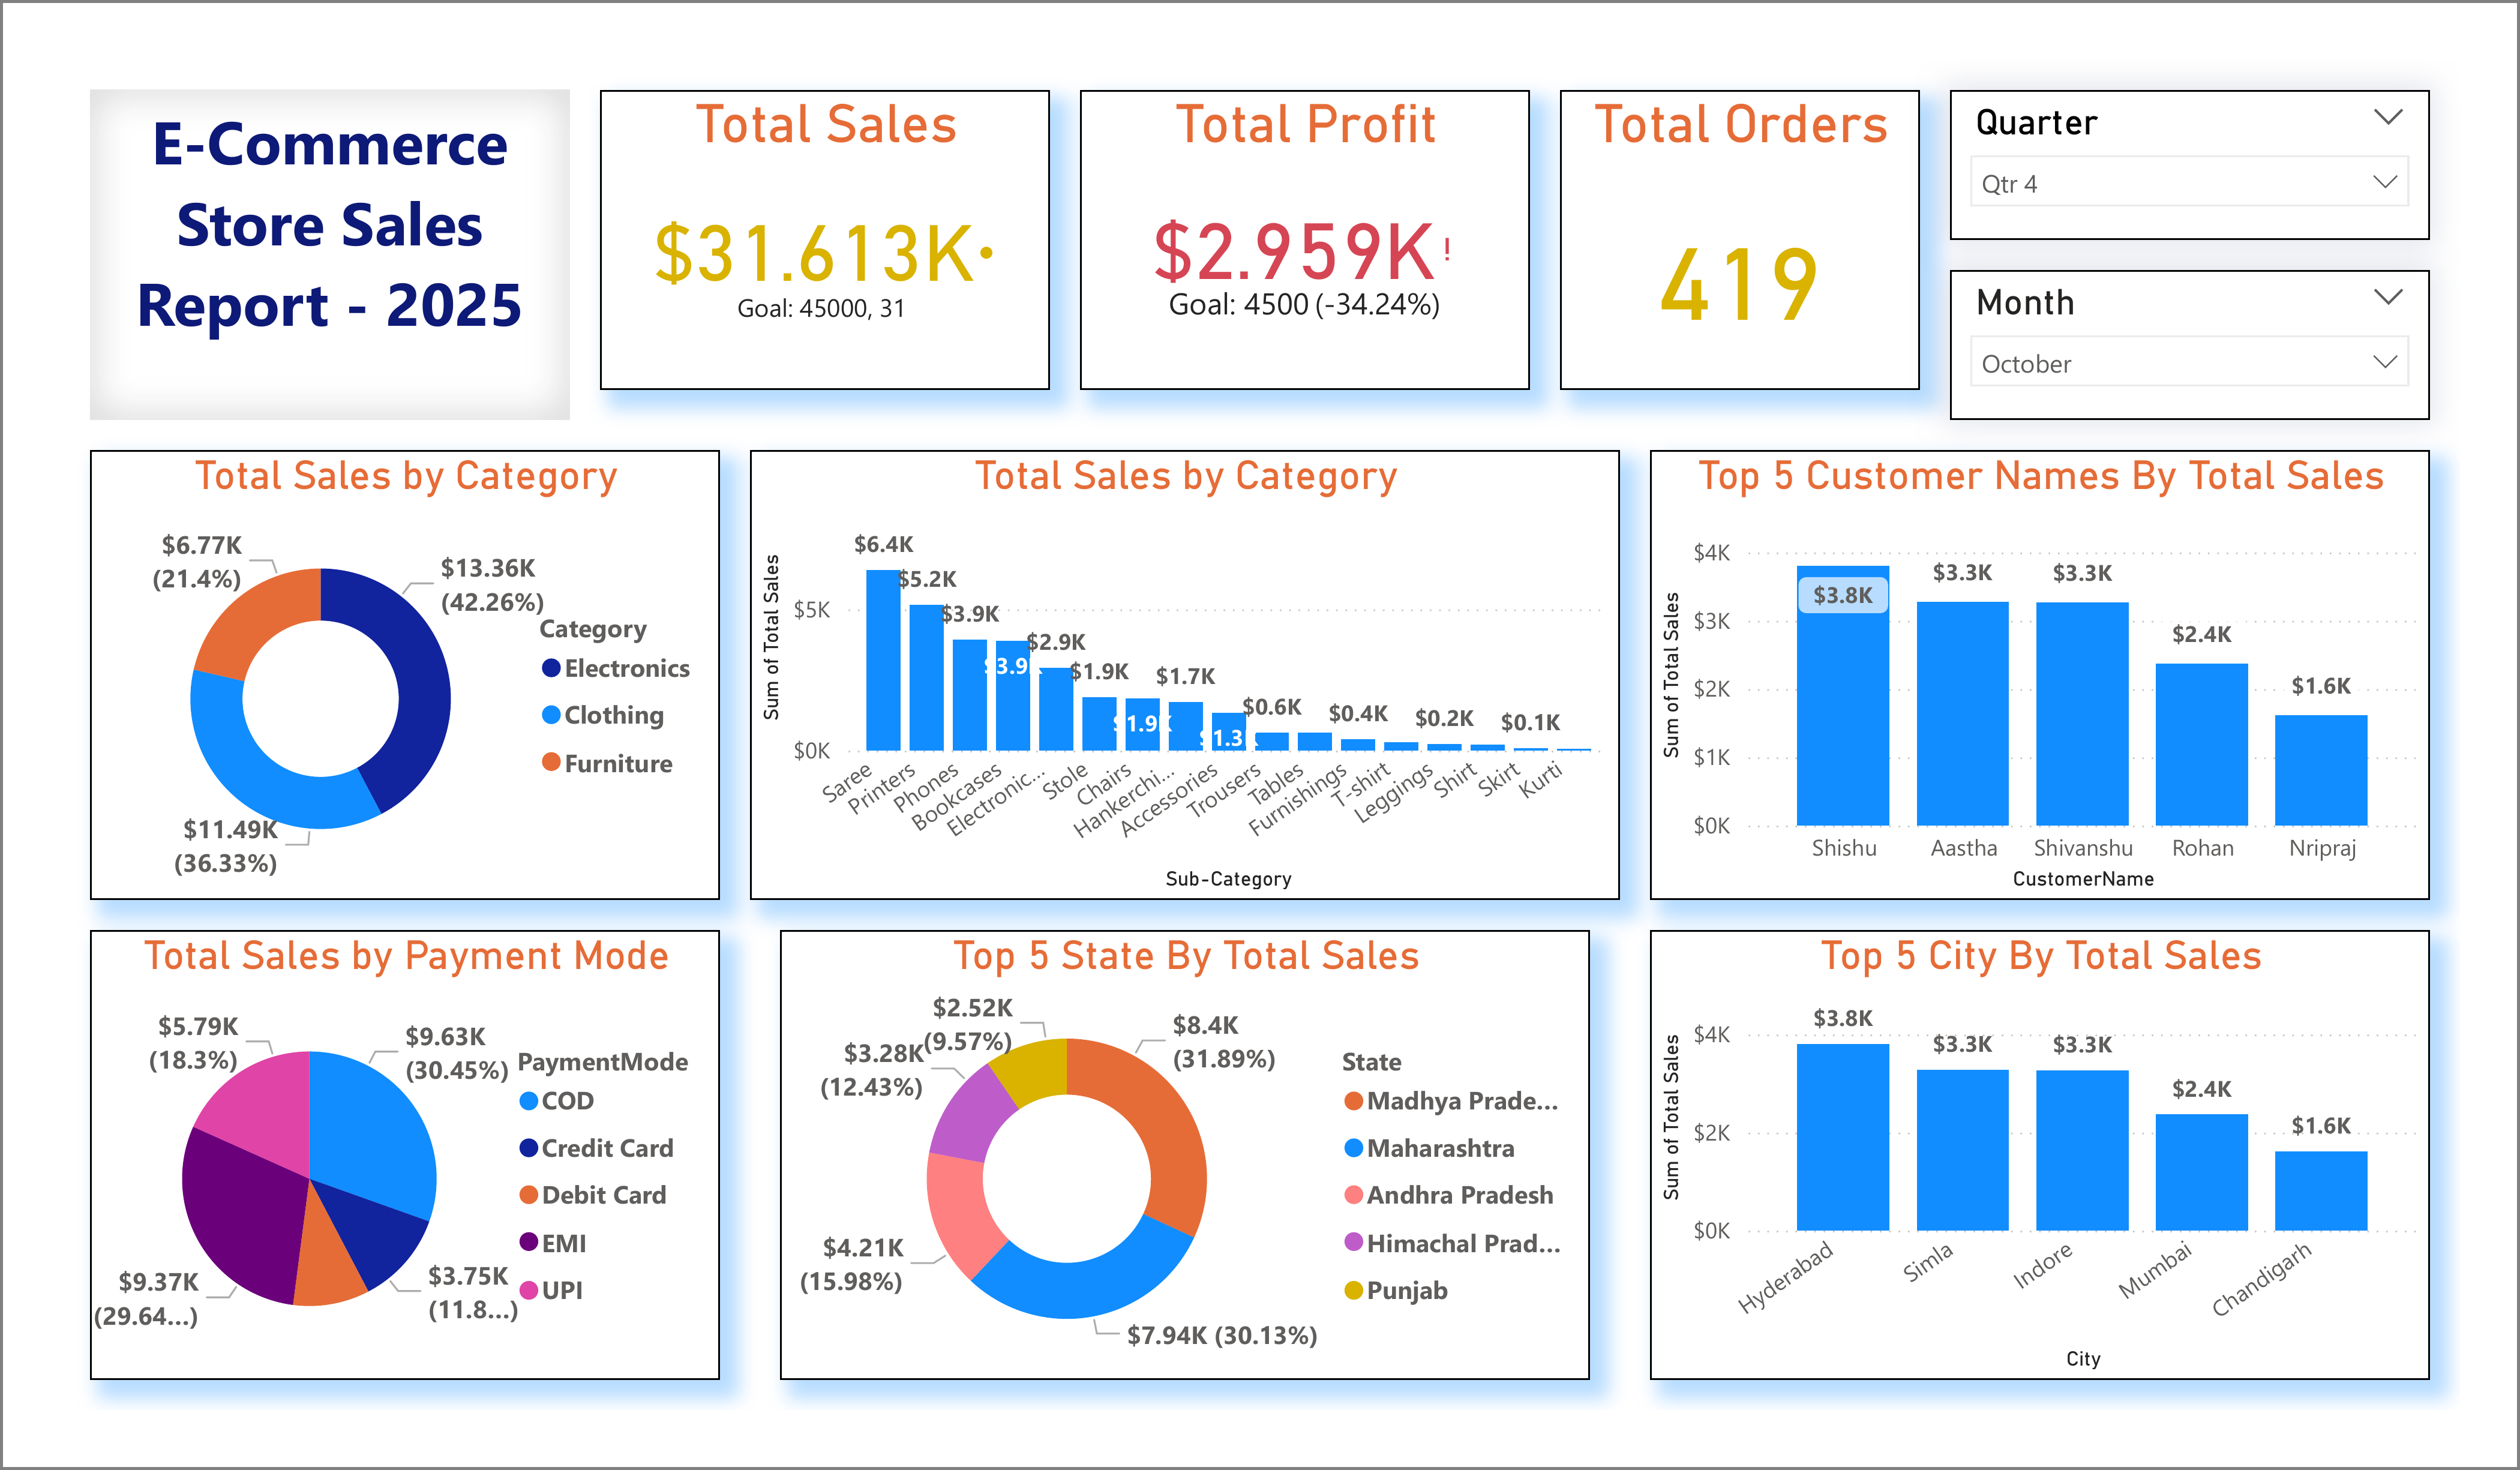

The page's visual inventory and layout, read from the dashboard file:
{"tool":"powerbi","page":{"name":"Page 1","canvas":[1280,720],"ordinal":0},"visuals":[{"type":"textbox","box":[16,16,256,176],"z":1000},{"type":"kpi","title":"Total Sales","fields":{"Indicator":["Sum(data.Total Sales)"],"TrendLine":["data (2).Order Date.Variation.Date Hierarchy.Year"],"Goal":["data.Target","CountNonNull(data (2).Order Date.Variation.Date Hierarchy.Year)"]},"box":[288,16,240,160],"z":2000},{"type":"card","title":"Total Orders","fields":{"Values":["Sum(data.Quantity)"]},"box":[800,16,192,160],"z":3000},{"type":"kpi","title":"Total Profit","fields":{"Indicator":["Sum(data.Profit)"],"Goal":["data.Estimated Profit"],"TrendLine":["data (2).Order Date.Variation.Date Hierarchy.Year"]},"box":[544,16,240,160],"z":4000},{"type":"slicer","fields":{"Values":["data (2).Order Date.Variation.Date Hierarchy.Month"]},"box":[1008,112,256,80],"z":5000},{"type":"slicer","fields":{"Values":["data (2).Order Date.Variation.Date Hierarchy.Quarter"]},"box":[1008,16,256,80],"z":6000},{"type":"donutChart","title":"Total Sales by Category","fields":{"Y":["Sum(data.Total Sales)"],"Category":["data.Category"]},"box":[16,208,336,240],"z":7000},{"type":"pieChart","title":"Total Sales by Payment Mode","fields":{"Y":["Sum(data.Total Sales)"],"Series":["data.PaymentMode"]},"box":[16,464,336,240],"z":8000},{"type":"columnChart","title":"Total Sales by Category","fields":{"Category":["data.Sub-Category"],"Y":["Sum(data.Total Sales)"]},"box":[368,208,464,240],"z":9000},{"type":"donutChart","title":"Top 5 State By Total Sales","fields":{"Y":["Sum(data.Total Sales)"],"Category":["data (2).State"]},"box":[384,464,432,240],"z":10000},{"type":"lineClusteredColumnComboChart","title":"Top 5 Customer Names By Total Sales","fields":{"Category":["data (2).CustomerName"],"Y":["Sum(data.Total Sales)"]},"box":[848,208,416,240],"z":11000},{"type":"columnChart","title":"Top 5 City By Total Sales","fields":{"Category":["data (2).City"],"Y":["Sum(data.Total Sales)"]},"box":[848,464,416,240],"z":12000}]}

Visuals, with their boxes in screenshot pixels (x1, y1, x2, y2):
textbox: select_region(82, 82, 562, 412)
"Total Sales" kpi: select_region(592, 82, 1041, 382)
"Total Orders" card: select_region(1550, 82, 1910, 382)
"Total Profit" kpi: select_region(1071, 82, 1520, 382)
slicer - data (2).Order Date.Variation.Date Hierarchy.Month: select_region(1940, 262, 2420, 412)
slicer - data (2).Order Date.Variation.Date Hierarchy.Quarter: select_region(1940, 82, 2420, 232)
"Total Sales by Category" donutChart: select_region(82, 442, 712, 892)
"Total Sales by Payment Mode" pieChart: select_region(82, 922, 712, 1371)
"Total Sales by Category" columnChart: select_region(742, 442, 1610, 892)
"Top 5 State By Total Sales" donutChart: select_region(772, 922, 1580, 1371)
"Top 5 Customer Names By Total Sales" lineClusteredColumnComboChart: select_region(1640, 442, 2420, 892)
"Top 5 City By Total Sales" columnChart: select_region(1640, 922, 2420, 1371)
